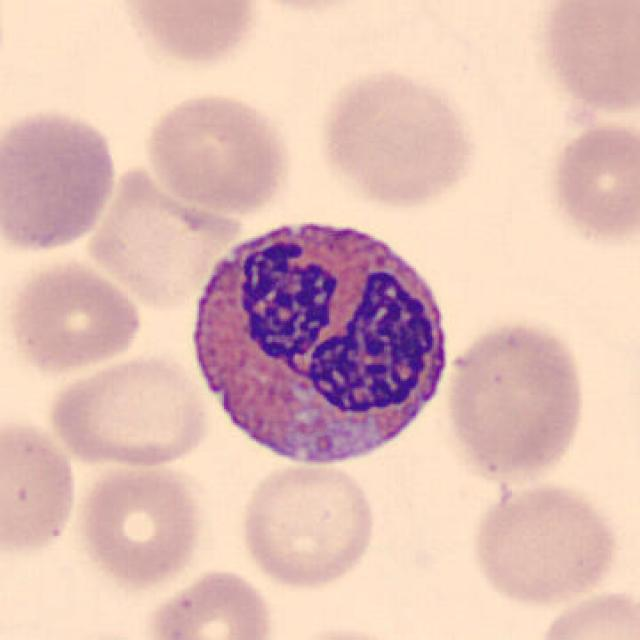eosinophil: (196, 219, 447, 473)
rbc: (321, 75, 475, 199), (459, 323, 582, 471), (152, 96, 296, 221), (52, 356, 205, 473), (102, 175, 238, 303), (243, 465, 382, 590), (0, 103, 118, 248), (474, 486, 616, 606), (20, 266, 134, 380), (85, 469, 197, 583), (542, 0, 640, 113), (551, 125, 640, 245), (0, 418, 76, 543), (152, 567, 278, 640), (127, 0, 264, 66), (544, 589, 640, 638)
